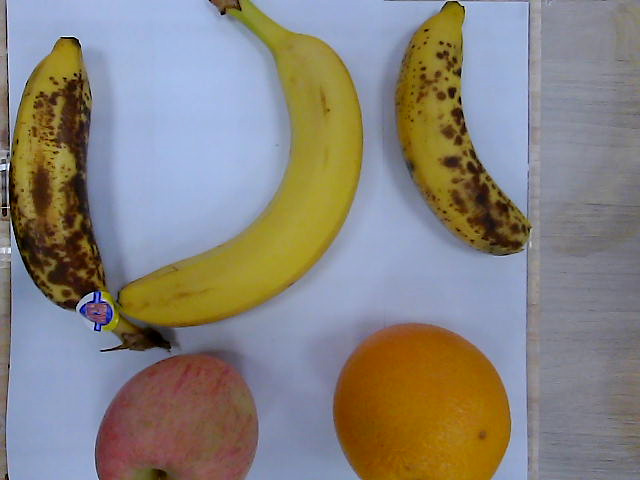fresh_apple: (95, 353, 260, 480)
fresh_banana: (123, 1, 365, 327)
fresh_orange: (333, 322, 514, 480)
rotten_banana: (11, 38, 172, 354), (397, 1, 536, 256)
